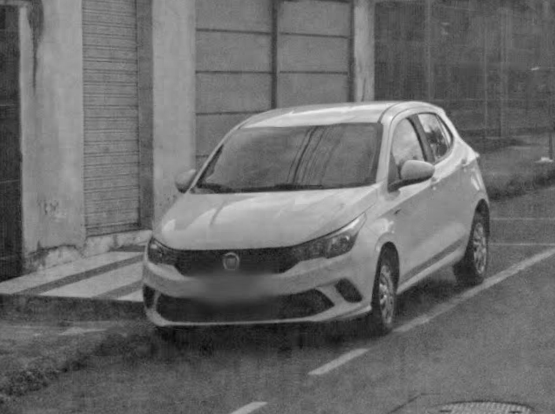car: (132, 77, 497, 353)
